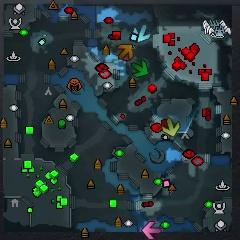x1: (143, 221, 161, 240)
x2: (162, 117, 180, 138)
x3: (131, 25, 151, 43)
x4: (132, 60, 149, 78)
x5: (116, 43, 134, 61)
